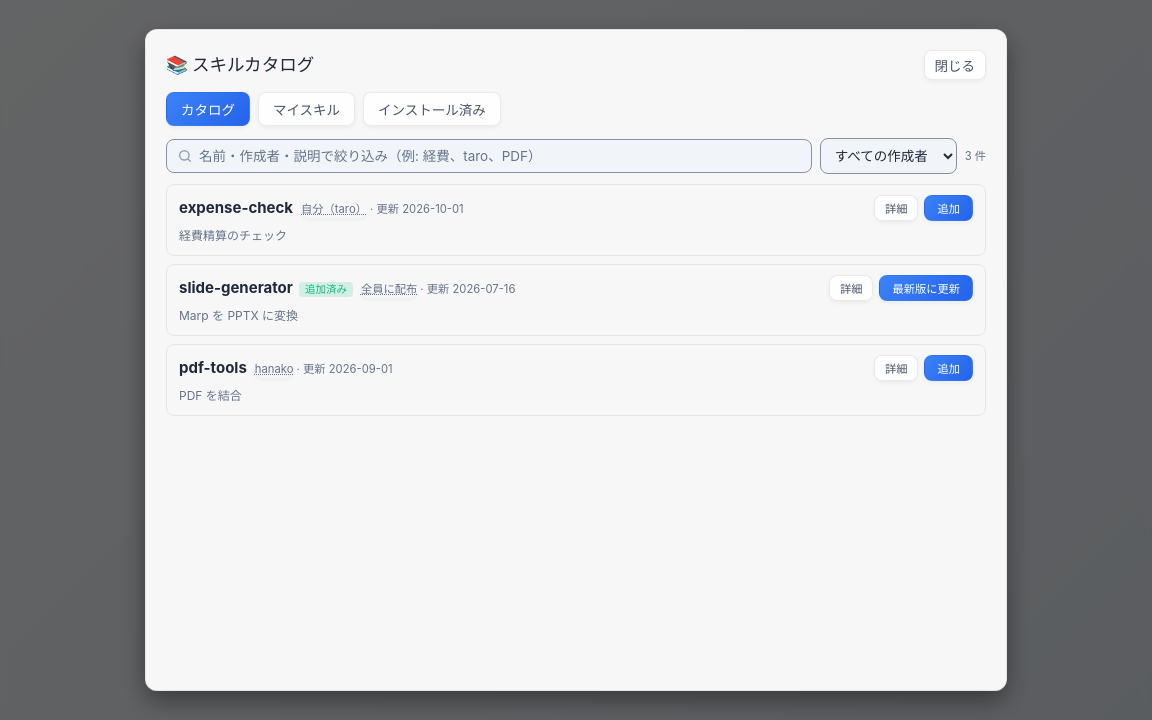
Scenario: catalog tab › import runs import then rebuild, and keeps the done message after reloading
Check: the text "expense-check" is shown, box [179,198,293,217]
Click the button "追加" in the row of "2026-10-01".
click(949, 208)  # box [924,195,973,221]
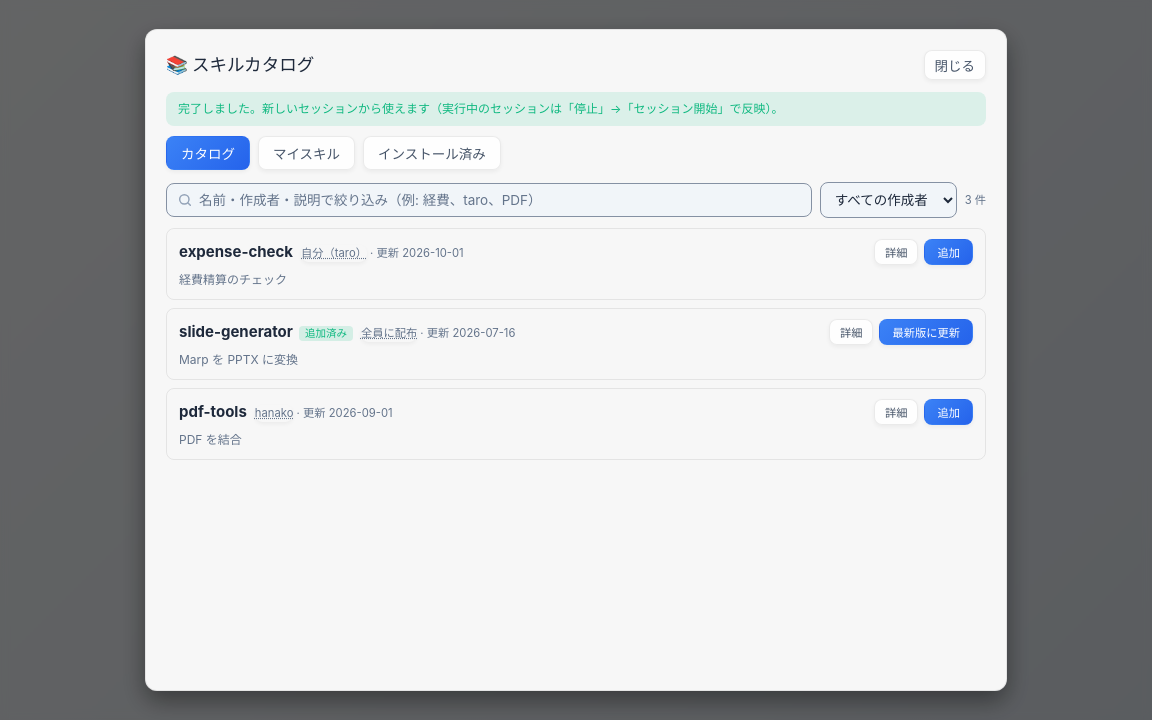
Check: the text "完了しました。新しいセッションから使えます（実行中のセッションは「停止」→「セッション開始」で反映）。" is shown, box [166,92,986,126]
